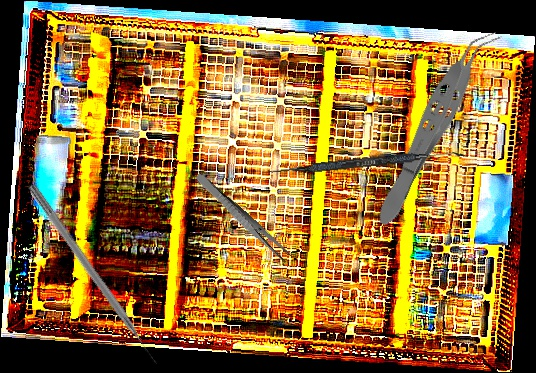Dressing Forceps: (192, 171, 293, 264)
Pusher: (24, 181, 161, 369)
Spatula Surgical: (268, 145, 465, 180)
Tissue Forceps: (366, 19, 504, 233)
